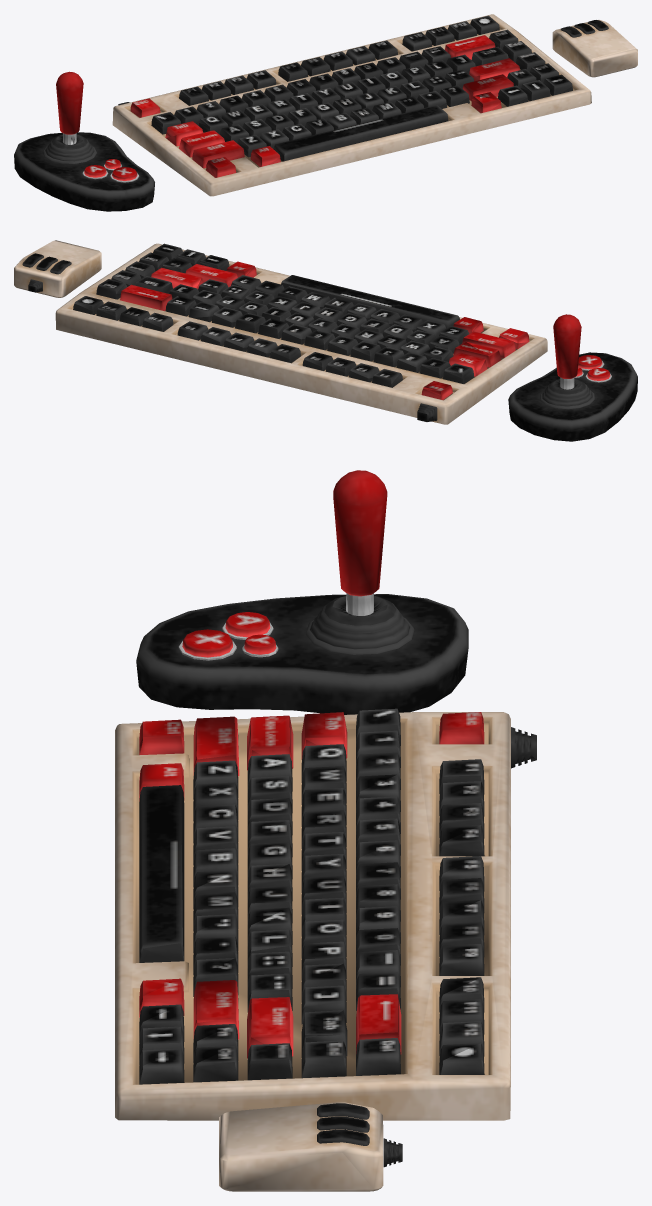
The model's file is peripheral_model.glb.
3 renders of one model, top to bottom at view 1: azimuth 30°, elevation 25°; view 2: azimuth 150°, elevation 25°; view 3: azimuth 270°, elevation 25°, orthographic. The views are drawn at different scales.
Visible parts, largest first — view 1: keyboard, joystick, mouse, joystick_stick; view 2: keyboard, joystick, mouse, joystick_stick; view 3: keyboard, joystick, mouse, joystick_stick.
Boxes of the visible parts, bbox=[...] form: keyboard: bbox=[112, 14, 591, 196]; joystick: bbox=[14, 132, 154, 211]; mouse: bbox=[552, 20, 637, 77]; joystick_stick: bbox=[45, 71, 93, 160]; keyboard: bbox=[55, 243, 547, 424]; joystick: bbox=[508, 352, 637, 441]; mouse: bbox=[14, 240, 101, 297]; joystick_stick: bbox=[543, 314, 591, 406]; keyboard: bbox=[115, 708, 536, 1120]; joystick: bbox=[136, 594, 468, 714]; mouse: bbox=[219, 1102, 402, 1191]; joystick_stick: bbox=[311, 470, 409, 648].
Size of the model in its own units: 0.5136 by 0.0833 by 0.1621.
1 material, 1 textured.
